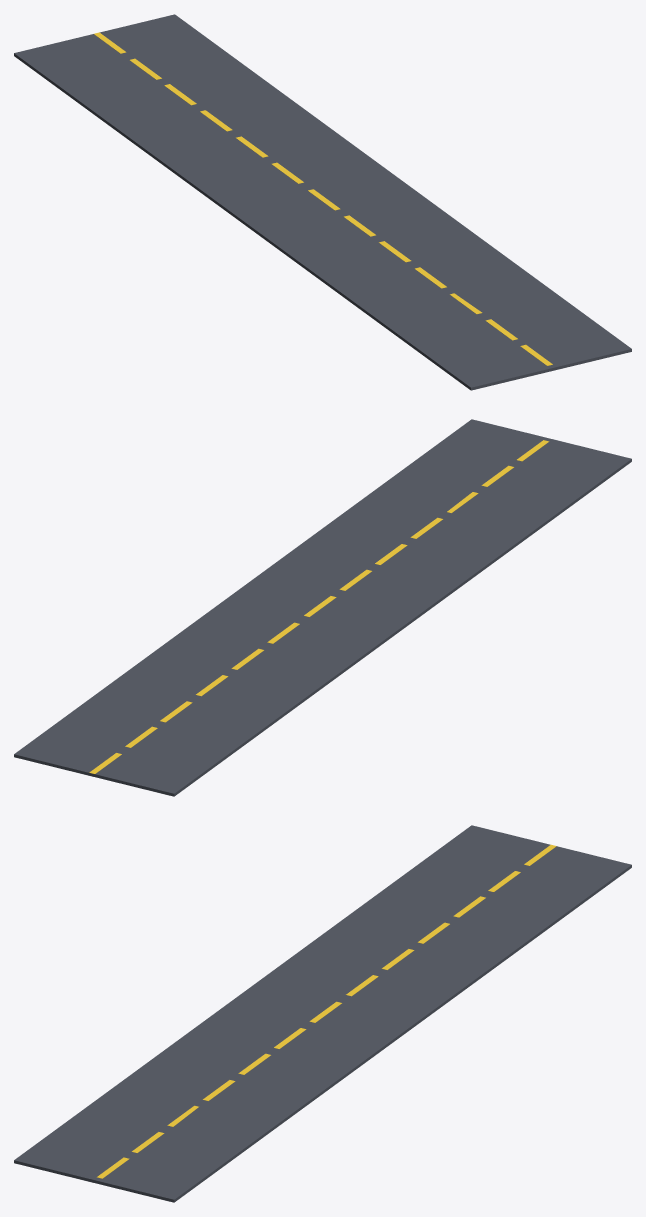
The model's file is City_road.fbx.
The picture shows the model from 3 angles, top to bottom: view 1: azimuth 30°, elevation 25°; view 2: azimuth 150°, elevation 25°; view 3: azimuth 330°, elevation 25°; orthographic projection.
Visible parts, largest first — view 1: City_road; view 2: City_road; view 3: City_road.
Part boxes in pixels (x1,y1,x2,y2): City_road: (14,14,631,390); City_road: (14,419,631,796); City_road: (14,825,631,1202).
Size of the model in its own units: 1419 by 7009 by 25.99.
